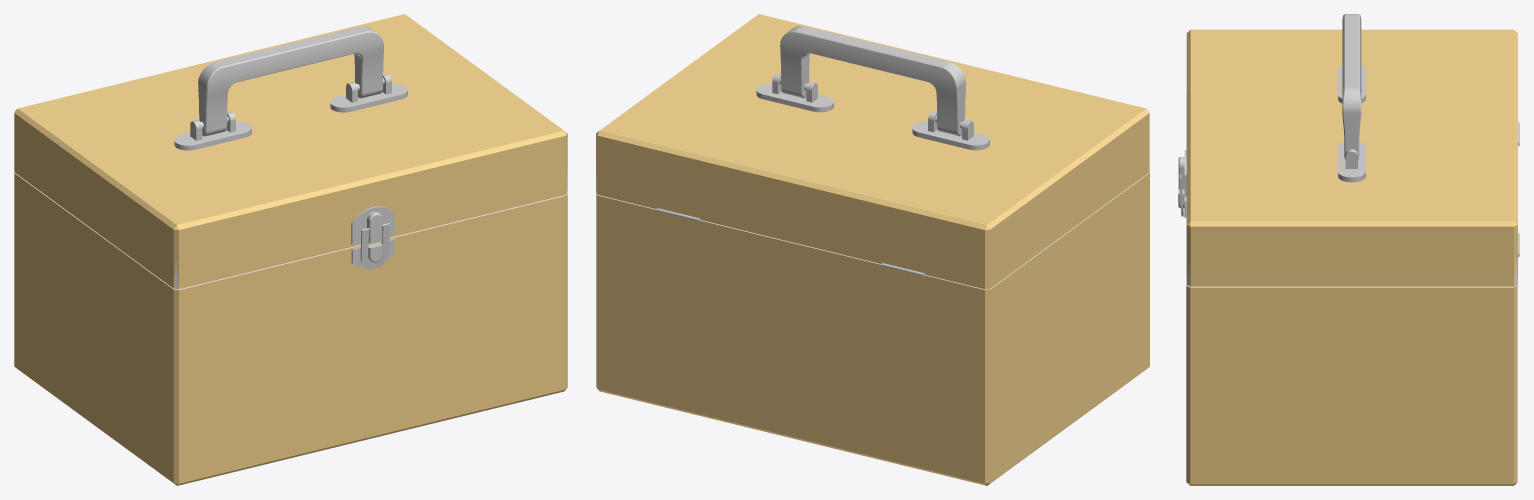
File: 救急箱.fbx
3 views of the same model, side by side, from view 1: azimuth 30°, elevation 25°; view 2: azimuth 150°, elevation 25°; view 3: azimuth 270°, elevation 25° (orthographic).
Parts seen in each view (by area): view 1: Body, huta, totte, kanagu; view 2: Body, huta, totte; view 3: huta, Body, totte.
Part boxes in pixels (x1,y1,x2,y2): Body: (14,172,567,485); huta: (14,14,567,289); totte: (198,26,383,136); kanagu: (360,223,389,269); Body: (596,172,1149,485); huta: (596,14,1149,289); totte: (780,26,966,136); huta: (1178,29,1517,286); Body: (1178,94,1519,485); totte: (1342,14,1361,159).
Size of the model in its own units: 23 by 18.62 by 17.
